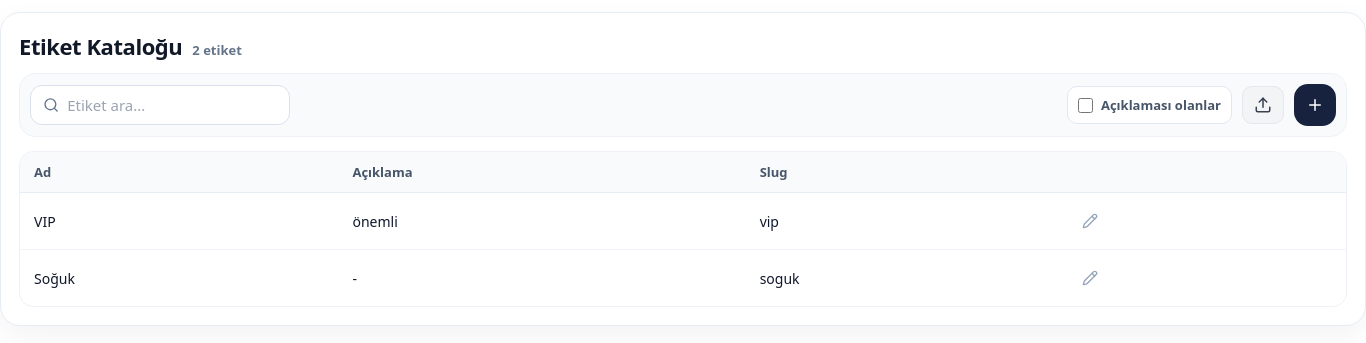
it: TagList › filters to only tags with a description
Expected: the text "VIP" is shown, [20,193,338,250]
Click the text "Açıklaması olanlar" at coordinates (1161, 105), box [1101,96,1221,114]
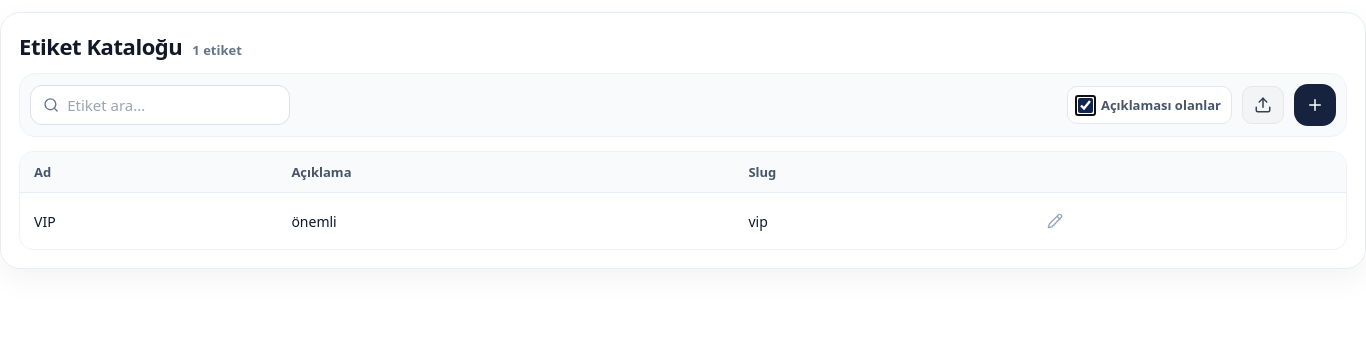
Expected: the text "Soğuk" is gone
